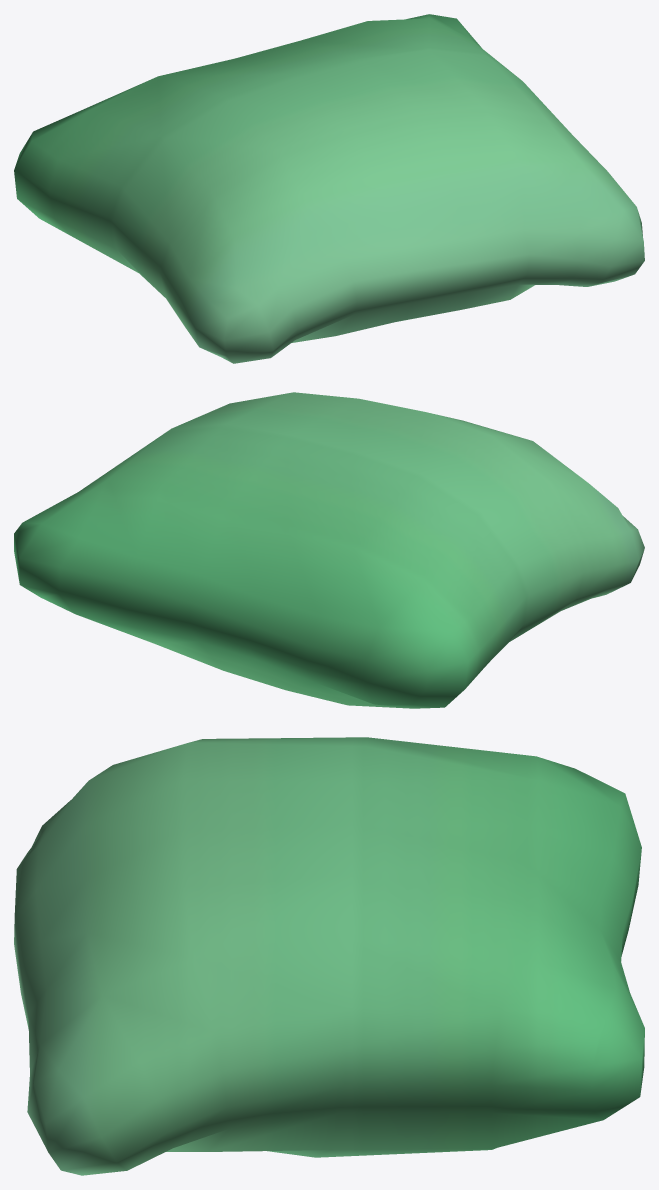
The model's file is pillow_02.glb.
3 views of the same model, one above another, from view 1: azimuth 30°, elevation 25°; view 2: azimuth 150°, elevation 25°; view 3: azimuth 270°, elevation 25° (orthographic). The views are drawn at different scales.
Visible parts, largest first — view 1: pillow_02; view 2: pillow_02; view 3: pillow_02.
Part boxes in pixels (bbox=[...]): pillow_02: bbox=[14, 14, 644, 363]; pillow_02: bbox=[14, 392, 644, 708]; pillow_02: bbox=[14, 737, 644, 1175].
Bounding box in the file's own units: 0.3159 × 0.1459 × 0.2772.
1 material, 1 textured.
